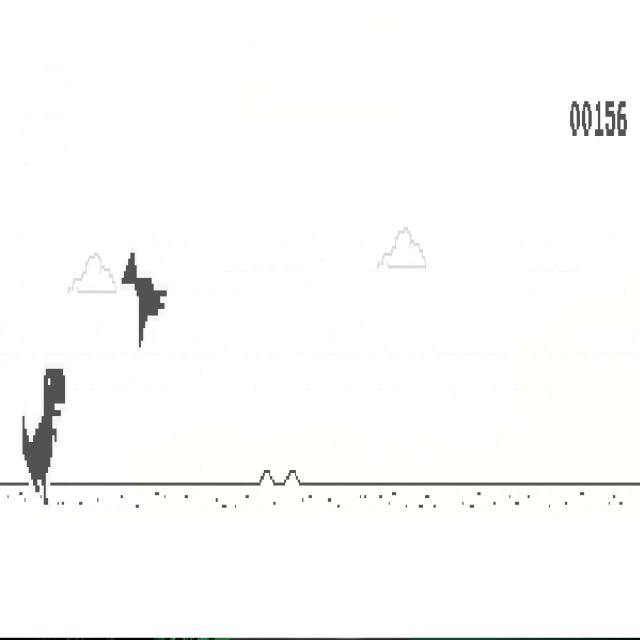dino: (22, 368, 66, 506)
ptero: (120, 249, 168, 350)
